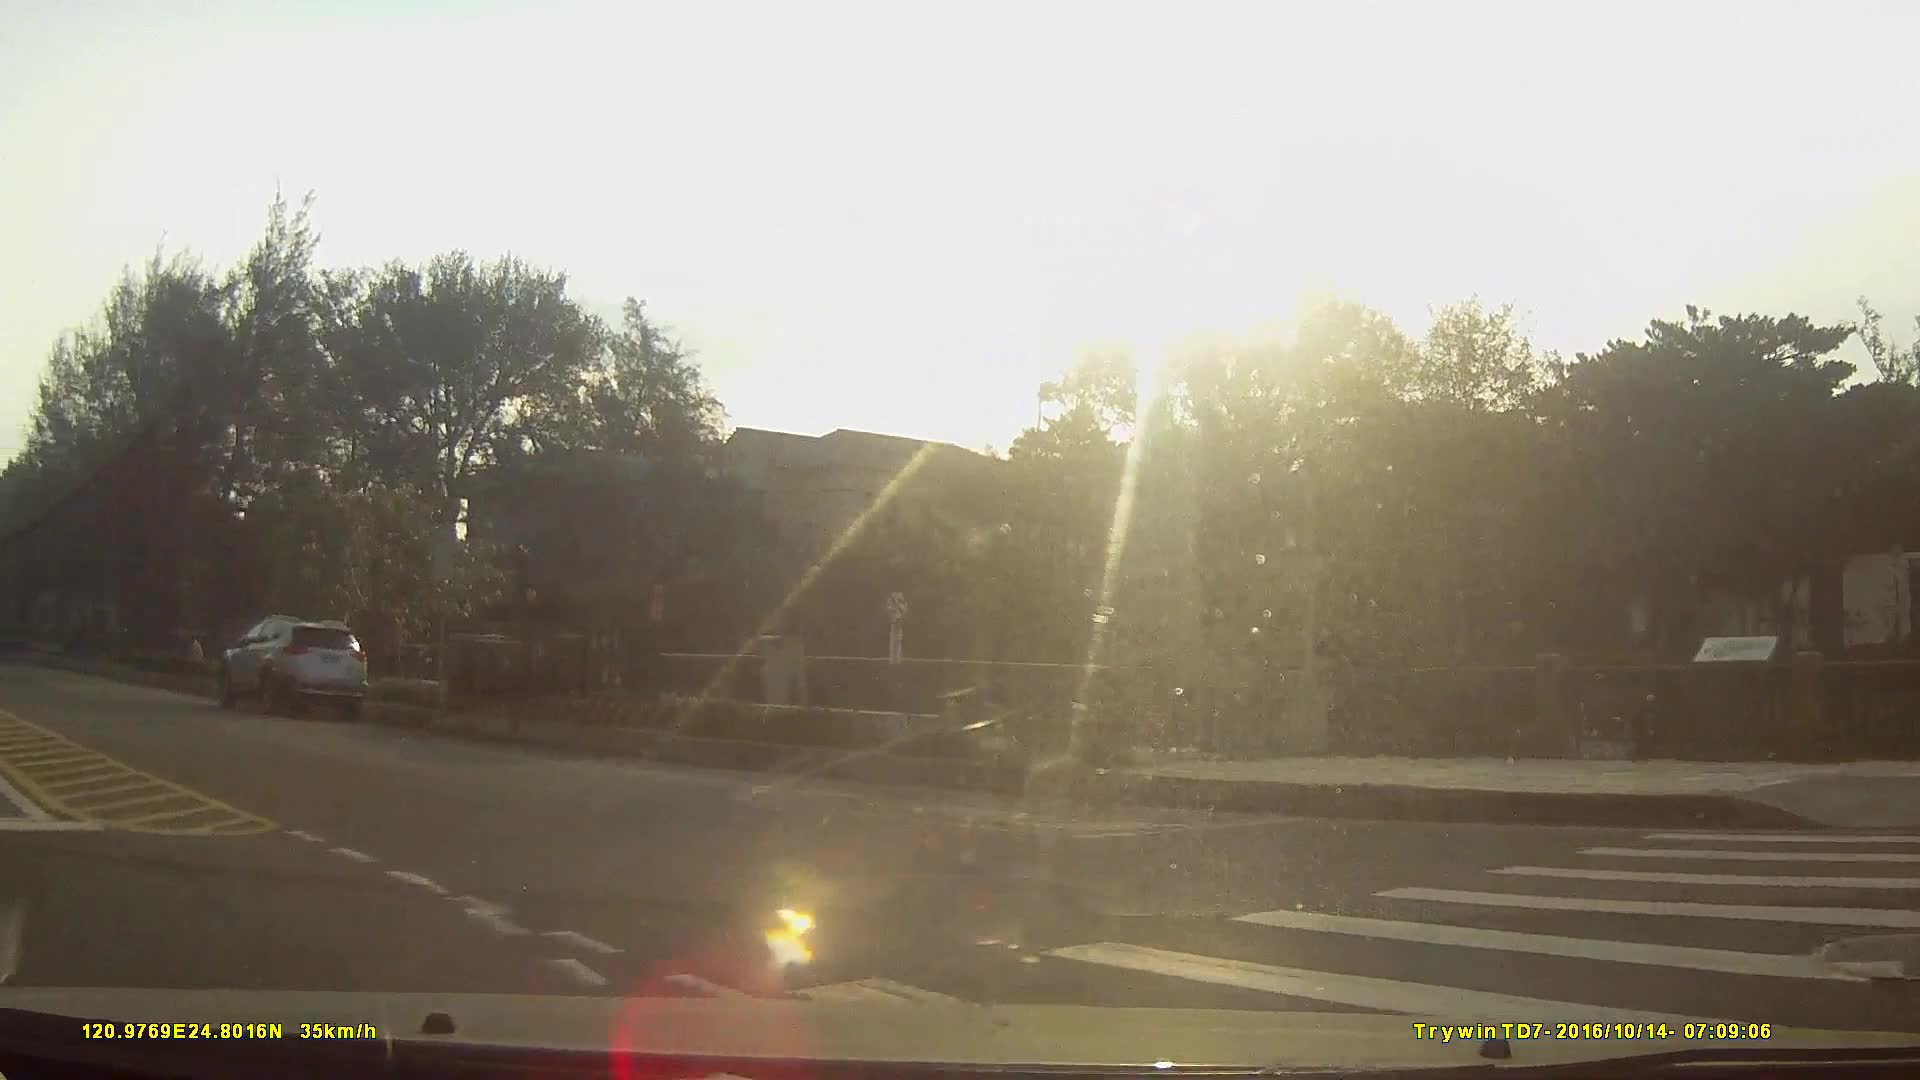vehicle: (218, 615, 367, 723)
